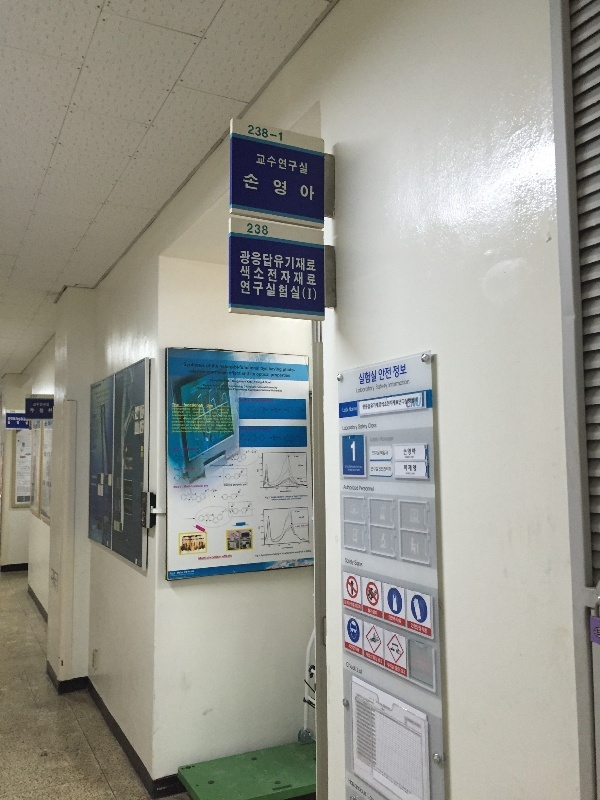text: (177, 403, 192, 433), (193, 403, 208, 433), (209, 403, 224, 433), (257, 154, 272, 175), (273, 154, 288, 175), (289, 154, 304, 175), (241, 251, 256, 272), (257, 251, 272, 272), (273, 251, 288, 272), (289, 251, 304, 272), (225, 403, 235, 433), (241, 266, 256, 285), (257, 266, 272, 285), (273, 266, 288, 285), (289, 266, 304, 285), (385, 364, 400, 383), (257, 124, 272, 142), (241, 281, 256, 299), (257, 281, 272, 299), (273, 281, 288, 299), (305, 251, 316, 272), (273, 180, 288, 195), (244, 173, 256, 191), (305, 266, 316, 285), (289, 281, 300, 299), (369, 651, 383, 664), (97, 387, 110, 401), (369, 398, 384, 410), (385, 398, 400, 410), (401, 398, 416, 410), (387, 662, 400, 675), (273, 124, 282, 142), (305, 287, 317, 300), (193, 363, 208, 373), (209, 363, 224, 373), (225, 363, 240, 373), (241, 363, 256, 373), (257, 363, 272, 373), (273, 363, 288, 373), (248, 124, 256, 142), (305, 185, 314, 201), (353, 661, 363, 675), (353, 423, 368, 432), (359, 370, 368, 385), (257, 223, 268, 235), (417, 623, 428, 634), (172, 403, 176, 433), (193, 370, 208, 378), (209, 370, 224, 378), (225, 370, 240, 378), (241, 370, 256, 378), (257, 370, 272, 378), (273, 370, 288, 378), (353, 557, 363, 569), (369, 370, 377, 385), (356, 385, 368, 395), (378, 364, 384, 383), (401, 364, 407, 383), (406, 398, 416, 409), (247, 223, 256, 235), (388, 379, 400, 388), (353, 485, 368, 492), (257, 550, 272, 557), (273, 550, 288, 557), (289, 550, 304, 557), (389, 615, 400, 624), (209, 555, 224, 561), (209, 384, 224, 390), (225, 384, 240, 390), (241, 384, 256, 390), (257, 384, 272, 390), (209, 387, 224, 393), (225, 387, 240, 393), (241, 387, 256, 393), (257, 387, 272, 393), (209, 554, 224, 560), (345, 557, 352, 569), (343, 423, 352, 432), (401, 379, 410, 388), (184, 363, 192, 373), (403, 449, 416, 455), (209, 379, 224, 384), (225, 379, 240, 384), (241, 379, 256, 384), (177, 570, 192, 575), (369, 423, 377, 432), (404, 466, 416, 472), (353, 601, 361, 610), (369, 608, 378, 616), (376, 383, 384, 392), (370, 437, 384, 442), (289, 363, 296, 373), (257, 379, 271, 384), (347, 661, 352, 675), (197, 387, 208, 393), (193, 485, 209, 489), (300, 185, 304, 201), (345, 601, 352, 610), (353, 644, 360, 653), (363, 398, 368, 410), (372, 451, 384, 456), (177, 485, 192, 489), (273, 495, 288, 499), (289, 495, 304, 499), (33, 403, 48, 407), (17, 421, 32, 425), (369, 385, 375, 395), (241, 427, 256, 431), (257, 427, 272, 431), (344, 485, 352, 492), (411, 623, 416, 634), (343, 407, 352, 413), (199, 555, 208, 561), (273, 387, 282, 393), (199, 554, 208, 560), (371, 467, 384, 471), (401, 662, 405, 675), (385, 437, 394, 442), (177, 468, 192, 471), (273, 498, 288, 501), (177, 448, 192, 451), (417, 398, 421, 409), (225, 555, 232, 561), (305, 154, 307, 175), (353, 441, 355, 462), (225, 554, 232, 560), (305, 550, 311, 557), (44, 419, 48, 429), (49, 419, 53, 429), (211, 464, 224, 467), (257, 173, 259, 191), (289, 498, 301, 501), (17, 417, 26, 421), (42, 481, 48, 487), (369, 485, 374, 492), (49, 461, 51, 478), (40, 409, 48, 413), (8, 417, 16, 421), (8, 421, 16, 425), (92, 383, 96, 391), (97, 383, 101, 391), (203, 384, 208, 390), (273, 384, 278, 390), (353, 466, 363, 469), (225, 484, 240, 486), (265, 495, 272, 499), (94, 387, 96, 401), (225, 464, 234, 467), (349, 644, 352, 653), (385, 383, 388, 392), (302, 287, 304, 300), (366, 651, 368, 664), (353, 407, 357, 413), (385, 467, 391, 471), (189, 370, 192, 378), (44, 451, 48, 457), (49, 451, 53, 457), (351, 441, 352, 462), (345, 466, 352, 469), (353, 469, 360, 472), (26, 422, 32, 425), (47, 461, 48, 478), (289, 370, 291, 378), (49, 409, 53, 413), (385, 451, 388, 456), (193, 448, 198, 451), (241, 484, 248, 486), (417, 398, 418, 410), (348, 469, 352, 472), (49, 481, 51, 487), (172, 448, 176, 451), (193, 468, 196, 471), (174, 485, 176, 489), (305, 495, 307, 499), (30, 409, 32, 413), (33, 409, 35, 413), (255, 550, 256, 557), (174, 468, 176, 471), (193, 570, 194, 575), (49, 403, 50, 407), (271, 498, 272, 501)
